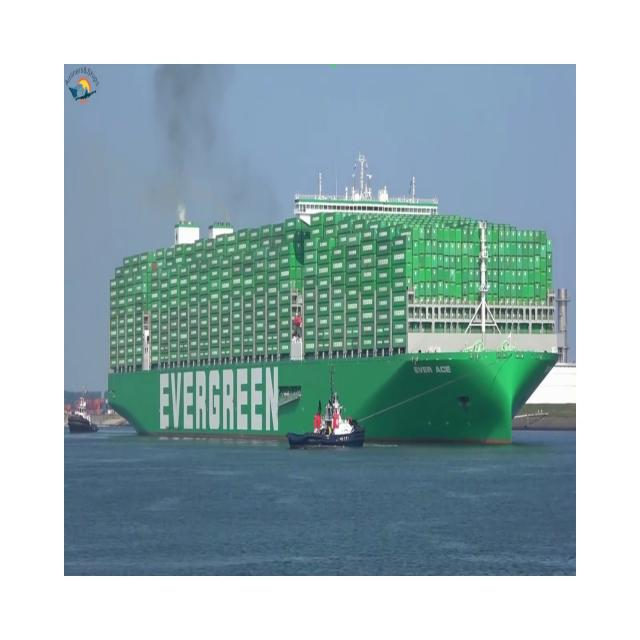OCR: (151, 361, 287, 440), (409, 354, 455, 380)
